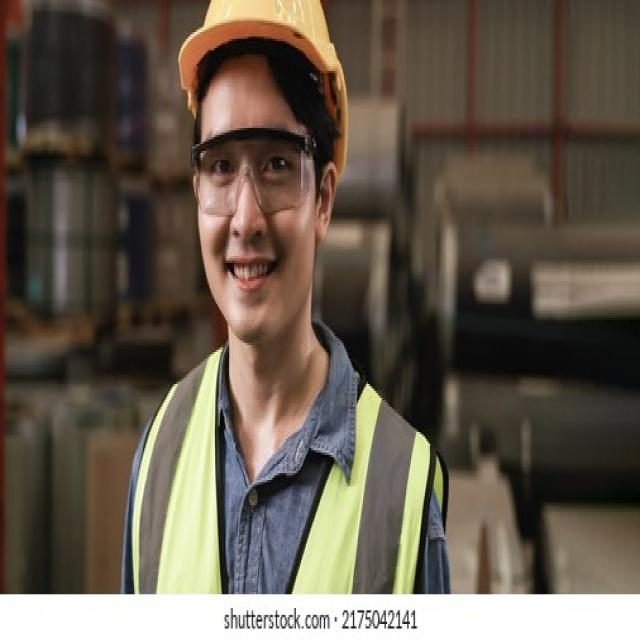goggles: (182, 113, 328, 222)
helmet: (169, 0, 386, 114)
vest: (132, 327, 454, 593)
